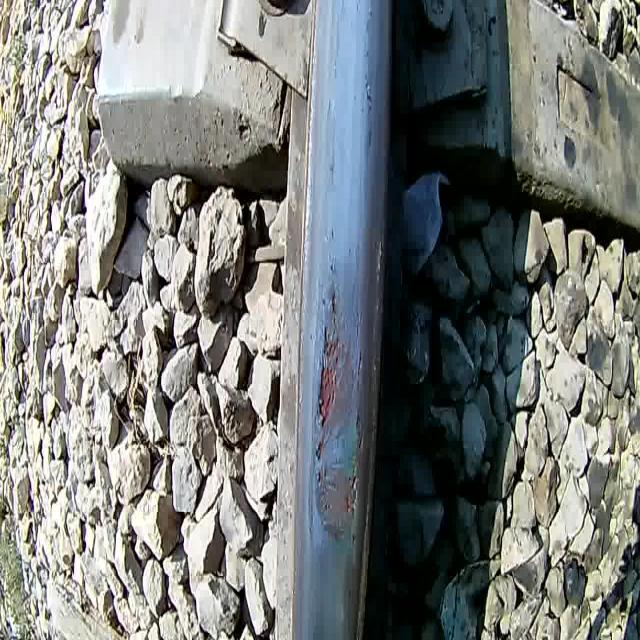Cracks: (343, 292, 369, 525)
Spallings: (308, 270, 347, 464)
Squats: (311, 458, 359, 552)
